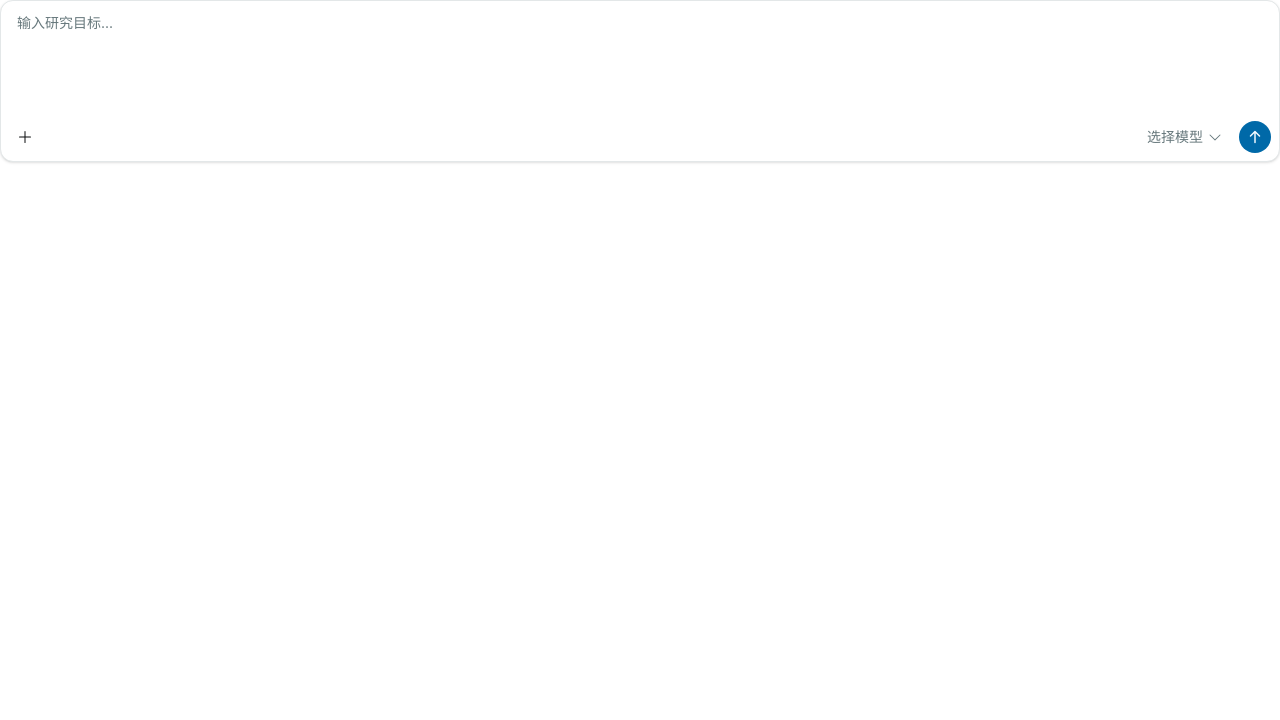
Test: AgentComposer model selector › shows a no-match empty state while searching
Click the dropdown named "点击选择模型" at [1185, 137], box top-left (1137, 121), bottom-right (1233, 153)
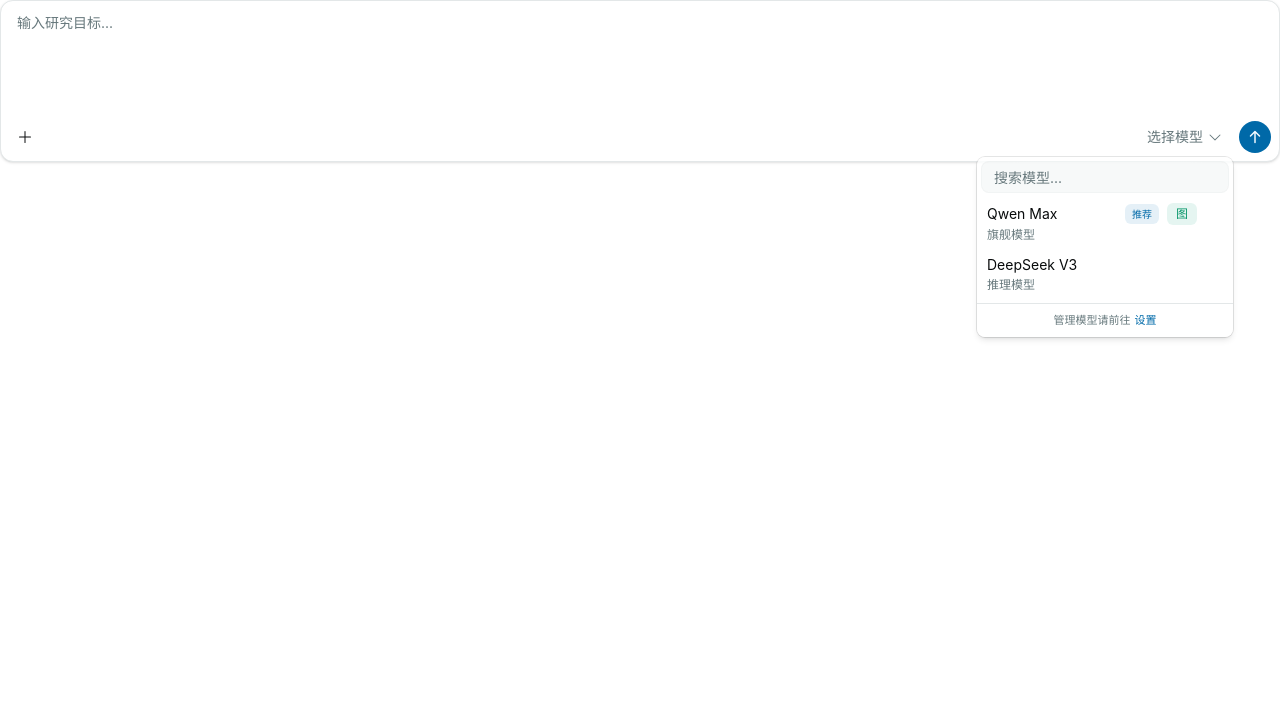
Now the dropdown with placeholder "搜索模型..." is shown
Type "no-such-model" into the dropdown with placeholder "搜索模型..." at [1101, 177], box top-left (982, 159), bottom-right (1220, 195)
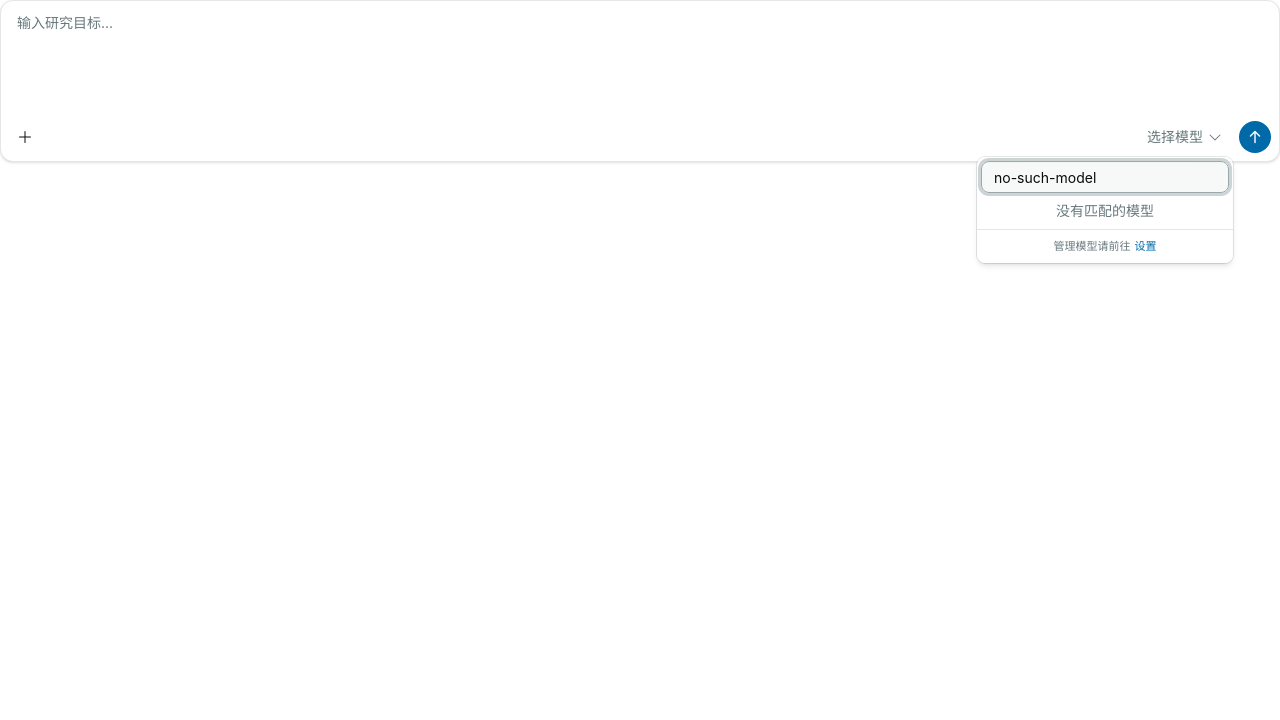
Now the option "Qwen Max" is gone
